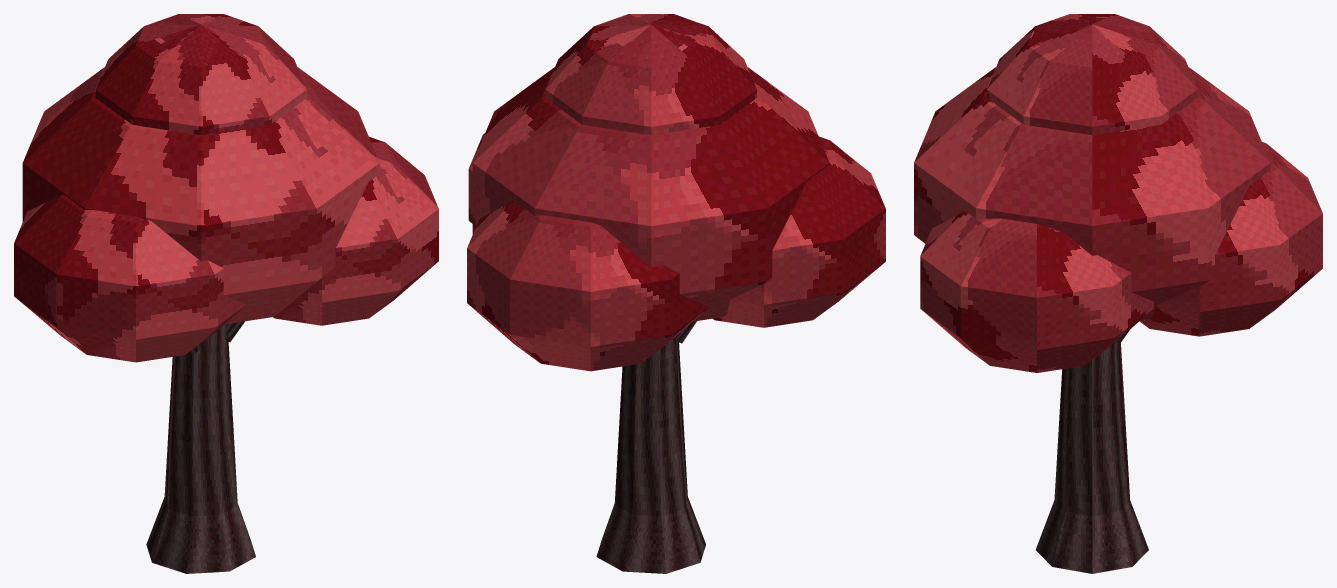
The model's file is arvore_floresta_sangue.glb.
The picture shows the model from 3 angles, left to right: view 1: azimuth 30°, elevation 25°; view 2: azimuth 150°, elevation 25°; view 3: azimuth 270°, elevation 25°; orthographic projection.
Visible parts, largest first — view 1: arvore_floresta_sangue; view 2: arvore_floresta_sangue; view 3: arvore_floresta_sangue.
Boxes of the visible parts, left/top/right/bottom form: arvore_floresta_sangue: left=14, top=14, right=438, bottom=573; arvore_floresta_sangue: left=467, top=14, right=885, bottom=573; arvore_floresta_sangue: left=914, top=14, right=1322, bottom=573.
Bounding box in the file's own units: 3.24 × 4.23 × 2.98.
Materials: 1 (1 with a texture image).
